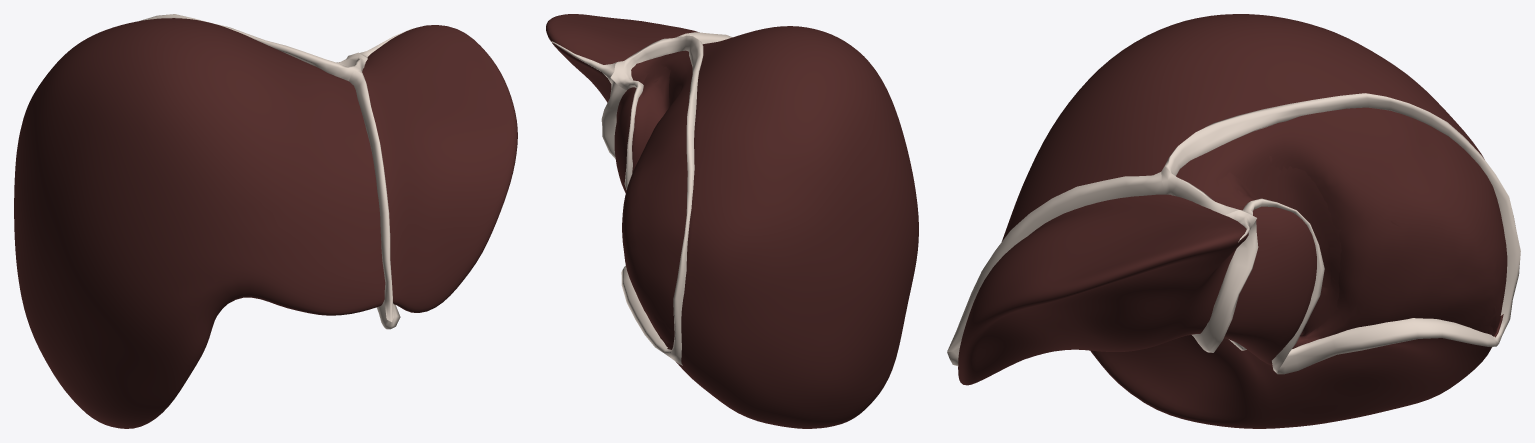
The model's file is liver.glb.
3 views of the same model, side by side, from view 1: azimuth 30°, elevation 25°; view 2: azimuth 150°, elevation 25°; view 3: azimuth 270°, elevation 25° (orthographic). The views are drawn at different scales.
Parts seen in each view (by area): view 1: VH_M_liver_capsule, VH_M_falciform_ligament, VH_M_coronary_ligament_of_liver; view 2: VH_M_liver_capsule, VH_M_bare_area_of_liver, VH_M_coronary_ligament_of_liver, VH_M_caudate_lobe_of_liver, VH_M_ligamentum_venosum, VH_M_right_posterosuperior_segment, VH_M_triangular_ligament_of_liver; view 3: VH_M_liver_capsule, VH_M_bare_area_of_liver, VH_M_coronary_ligament_of_liver, VH_M_caudate_lobe_of_liver, VH_M_falciform_ligament, VH_M_ligamentum_venosum, VH_M_diaphragmatic_surface, VH_M_right_posterosuperior_segment.
Boxes of the visible parts, x1,y1,x2,y2 form: VH_M_liver_capsule: (14, 18, 517, 428); VH_M_falciform_ligament: (349, 70, 393, 321); VH_M_coronary_ligament_of_liver: (140, 14, 367, 81); VH_M_liver_capsule: (546, 14, 918, 428); VH_M_bare_area_of_liver: (622, 50, 692, 347); VH_M_coronary_ligament_of_liver: (610, 35, 703, 365); VH_M_caudate_lobe_of_liver: (632, 54, 688, 125); VH_M_ligamentum_venosum: (601, 78, 626, 158); VH_M_right_posterosuperior_segment: (627, 118, 687, 311); VH_M_triangular_ligament_of_liver: (551, 41, 616, 82); VH_M_liver_capsule: (958, 14, 1503, 428); VH_M_bare_area_of_liver: (1176, 107, 1507, 344); VH_M_coronary_ligament_of_liver: (1161, 93, 1520, 374); VH_M_caudate_lobe_of_liver: (1190, 151, 1341, 348); VH_M_falciform_ligament: (947, 172, 1165, 351); VH_M_ligamentum_venosum: (1192, 220, 1258, 352); VH_M_diaphragmatic_surface: (1226, 166, 1496, 345); VH_M_right_posterosuperior_segment: (1339, 107, 1499, 308).
Bounding box in the file's own units: 1.17 × 1.06 × 1.23.
